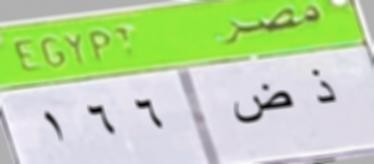1: (36, 107, 70, 147)
6: (130, 94, 173, 138), (86, 97, 120, 144)
daad: (230, 82, 298, 130)
zaal: (310, 62, 338, 115)
